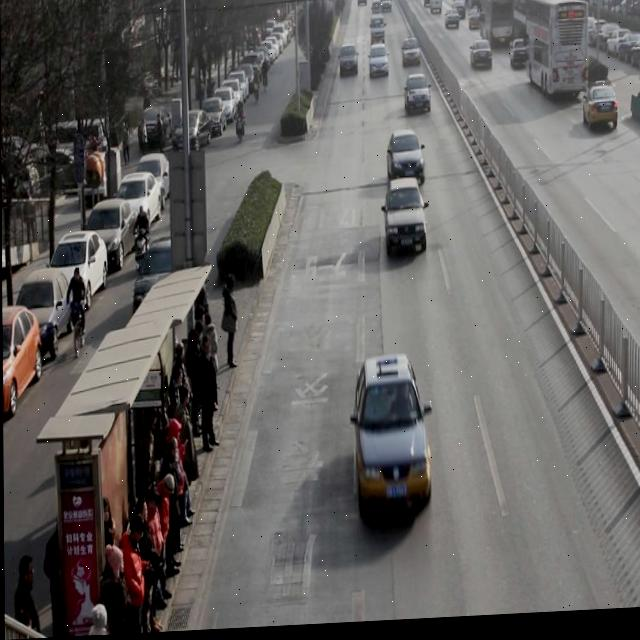car: (355, 360, 432, 519), (384, 182, 427, 263), (387, 135, 425, 195), (584, 90, 618, 139), (405, 78, 431, 122), (509, 43, 532, 76), (369, 47, 389, 84), (471, 45, 493, 77), (401, 40, 421, 72), (340, 47, 358, 81)
van: (525, 0, 586, 103), (478, 0, 514, 54)
